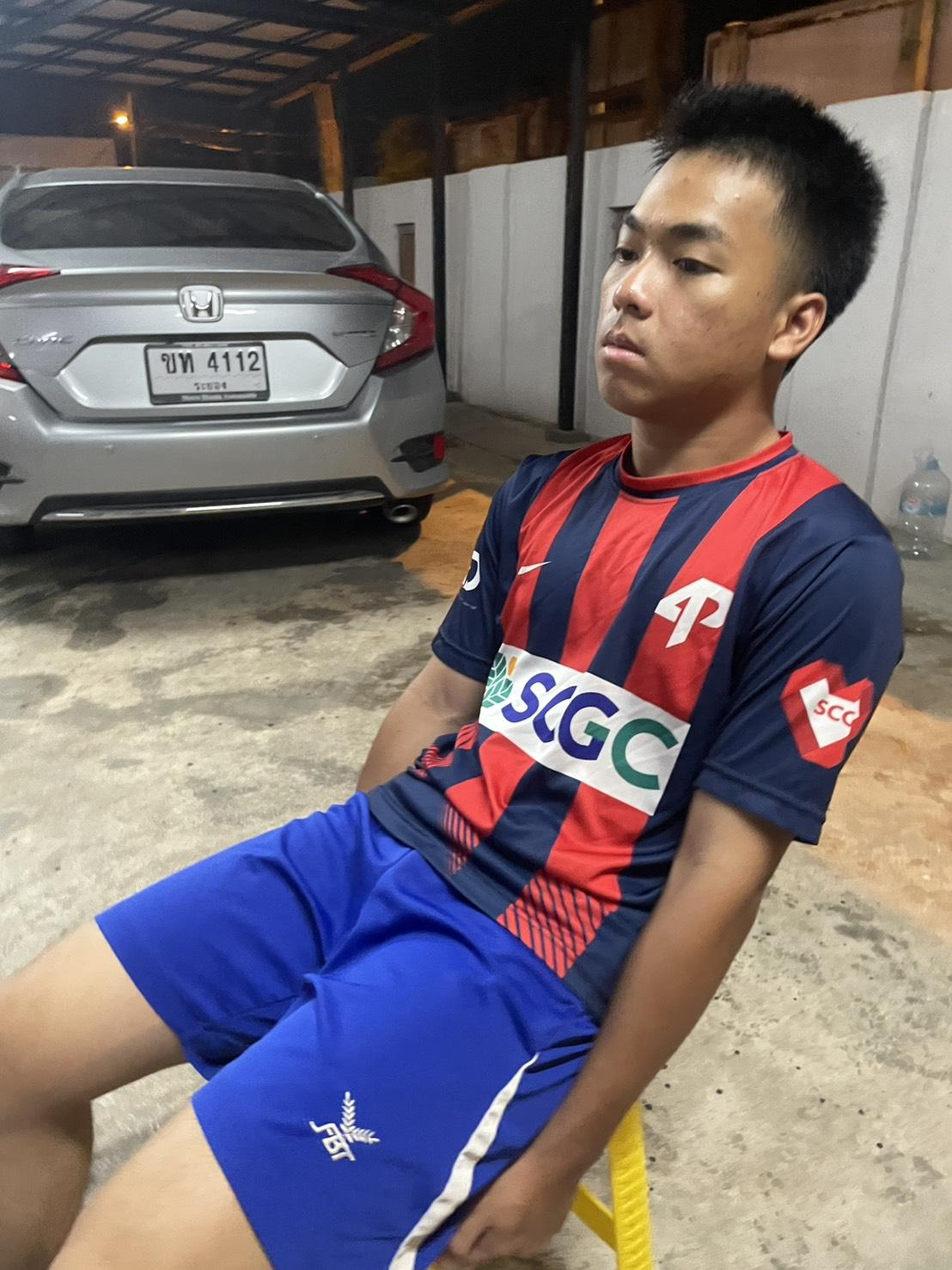BadPosture: (361, 85, 901, 1019)
